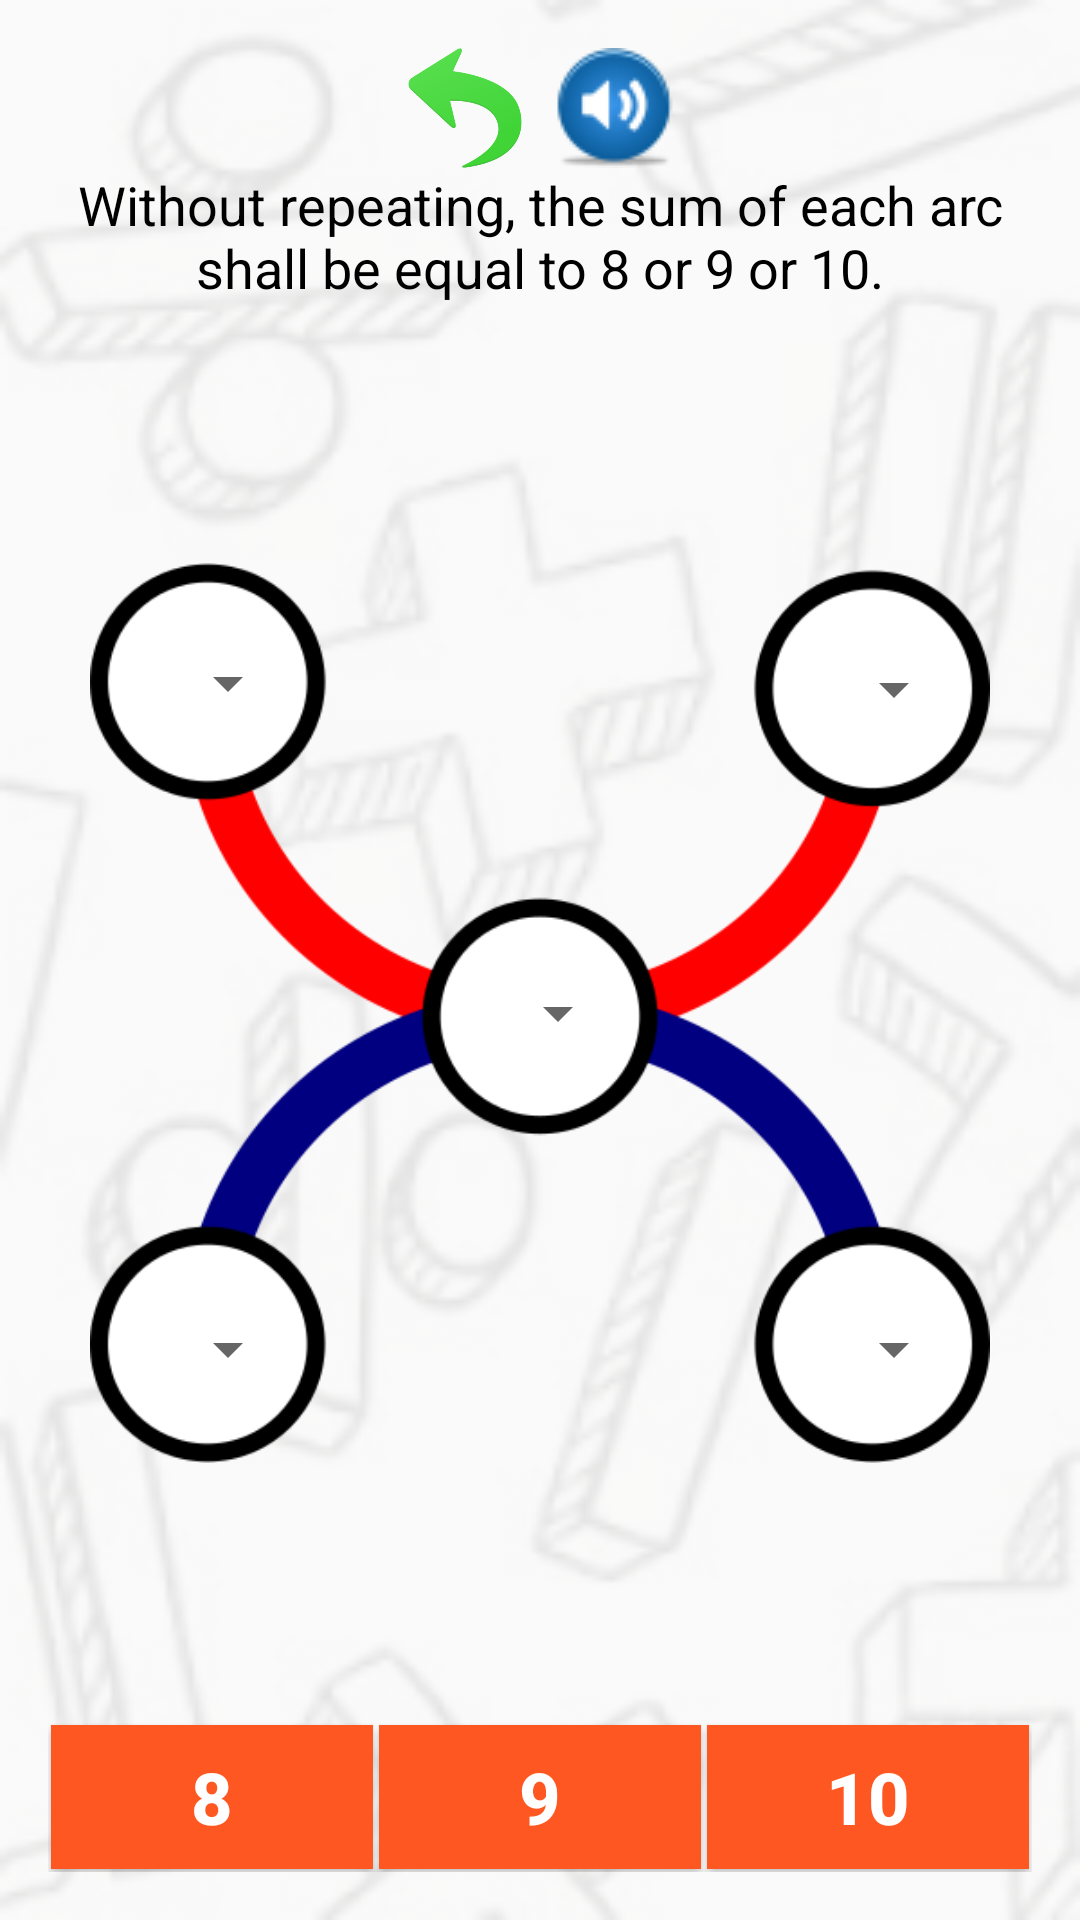

Named icons in this screenshot (1080 x 1920) and their bounding boxes, box(x1, y1, x2, y2):
som: box(557, 48, 672, 166)
voltar: box(408, 48, 522, 168)
